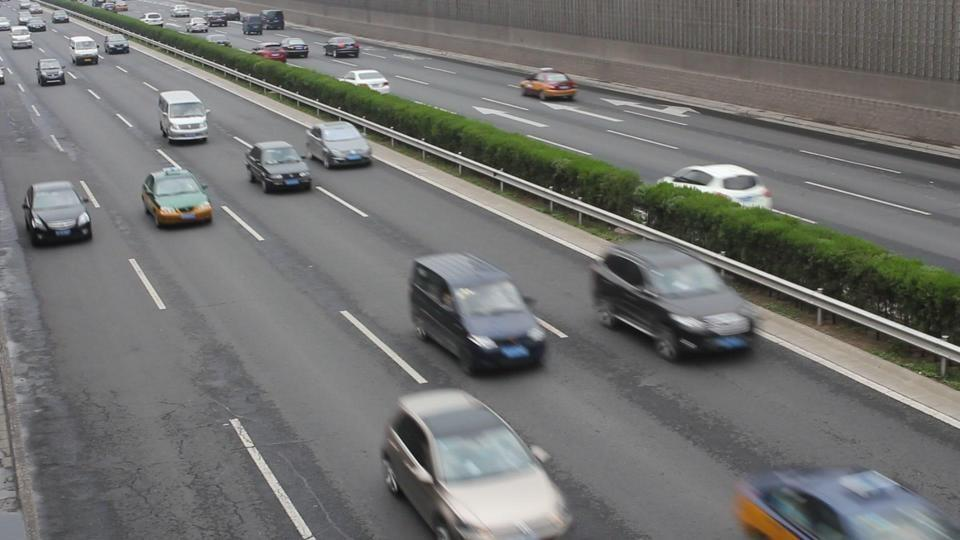car: (379, 386, 575, 538), (588, 238, 756, 362), (406, 251, 551, 376), (729, 466, 959, 538), (20, 179, 95, 247), (667, 164, 774, 211), (140, 166, 214, 228), (245, 139, 313, 193), (304, 121, 373, 170), (156, 89, 210, 143), (517, 68, 577, 101), (339, 69, 391, 94), (323, 34, 360, 58), (36, 57, 65, 86)
